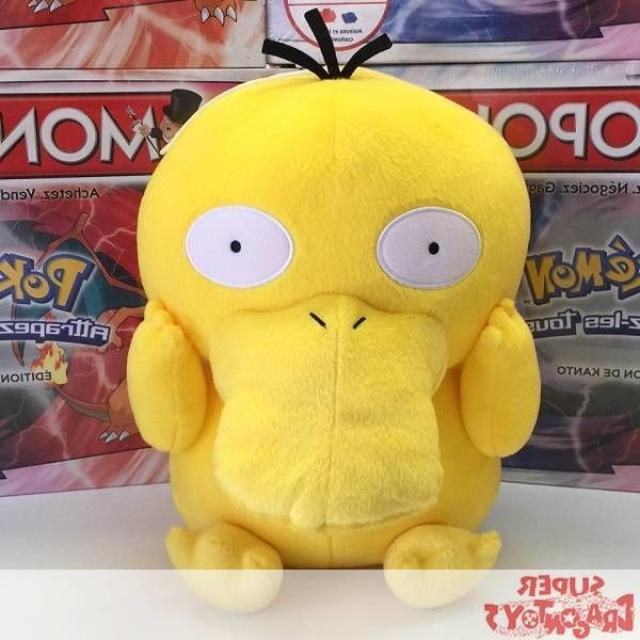Psyduck: (130, 58, 522, 596)
